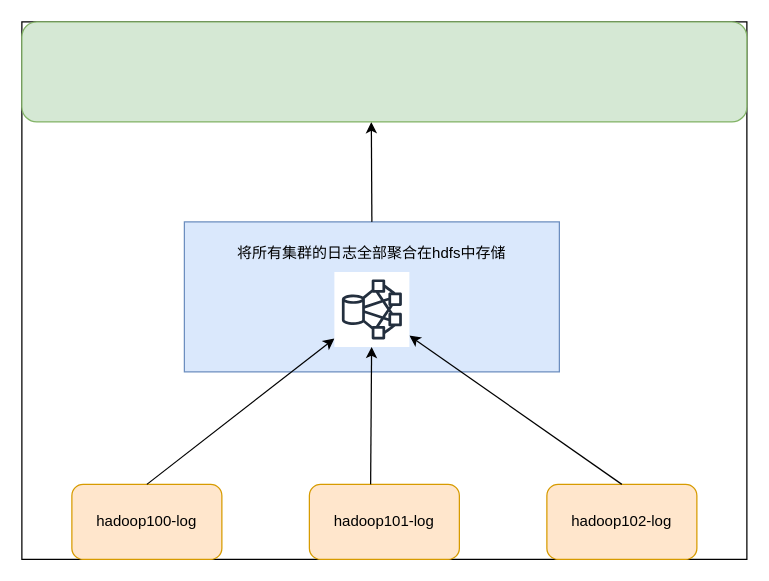
Image size: 769x581. Some labels were removed from this diagram. Each missing label, with the centre of its shape:
HDFS cluster: (371,309)
用户直接访问hdfs日志即可获取到集群之间的日志相关信息: (384,71)
